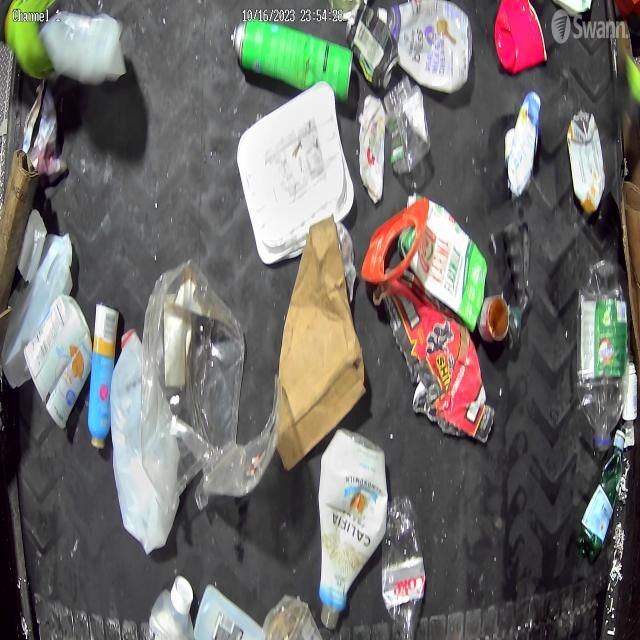can: (230, 18, 352, 104), (346, 1, 400, 92), (479, 290, 511, 349)
milk_jug: (112, 327, 178, 552), (3, 232, 73, 386), (41, 10, 128, 84)
non_white_jug: (398, 195, 488, 332), (385, 0, 473, 93), (192, 585, 273, 640)
plastic_bottle: (578, 261, 628, 454), (383, 494, 428, 640)
